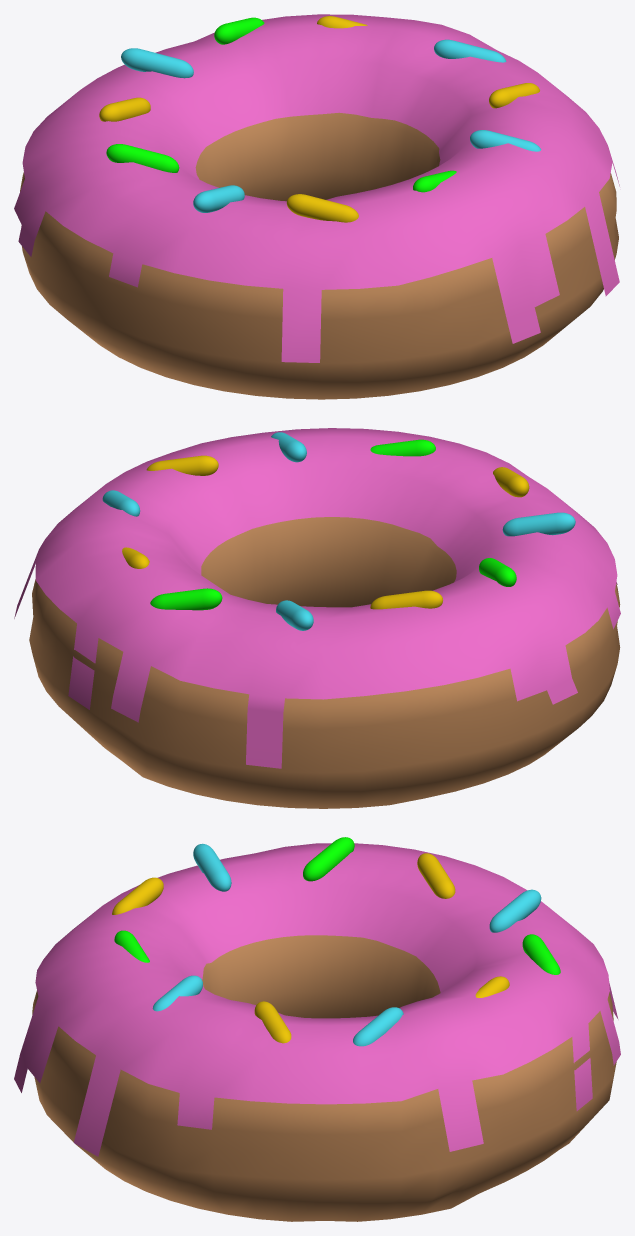
File: donutpinkJ.fbx
The picture shows the model from 3 angles, top to bottom: view 1: azimuth 30°, elevation 25°; view 2: azimuth 150°, elevation 25°; view 3: azimuth 270°, elevation 25°; orthographic projection.
Visible parts, largest first — view 1: donutcreamJ.001, donutbreadJ.001, Sphere.007, Sphere.005, Sphere.006, Sphere.010, Sphere.003, Sphere.004, Sphere.009, Sphere, Sphere.001; view 2: donutcreamJ.001, donutbreadJ.001, Sphere.003, Sphere, Sphere.004, Sphere.001, Sphere.002, Sphere.007, Sphere.005, Sphere.006, Sphere.009, Sphere.010; view 3: donutcreamJ.001, donutbreadJ.001, Sphere.006, Sphere.007, Sphere.003, Sphere.004, Sphere.005, Sphere.010, Sphere.001, Sphere, Sphere.009, Sphere.002.
Boxes of the visible parts, x1,y1,x2,y2 form: donutcreamJ.001: (14, 14, 619, 362); donutbreadJ.001: (20, 112, 618, 399); Sphere.007: (121, 48, 193, 78); Sphere.005: (286, 194, 358, 222); Sphere.006: (106, 144, 179, 172); Sphere.010: (434, 39, 506, 62); Sphere.003: (193, 185, 244, 212); Sphere.004: (99, 97, 150, 121); Sphere.009: (470, 130, 541, 151); Sphere: (214, 17, 264, 44); Sphere.001: (489, 83, 539, 108); donutcreamJ.001: (14, 428, 620, 768); donutbreadJ.001: (29, 517, 620, 808); Sphere.003: (502, 512, 575, 536); Sphere: (150, 588, 222, 610); Sphere.004: (370, 590, 442, 609); Sphere.001: (146, 455, 218, 475); Sphere.002: (370, 439, 435, 456); Sphere.007: (276, 600, 313, 630); Sphere.005: (493, 467, 529, 497); Sphere.006: (479, 558, 516, 586); Sphere.009: (271, 432, 306, 462); Sphere.010: (102, 490, 140, 516); donutcreamJ.001: (14, 843, 620, 1156); donutbreadJ.001: (32, 935, 616, 1221); Sphere.006: (303, 837, 354, 881); Sphere.007: (489, 889, 541, 932); Sphere.003: (193, 843, 231, 891); Sphere.004: (417, 853, 455, 898); Sphere.005: (112, 877, 163, 914); Sphere.010: (353, 1007, 403, 1046); Sphere.001: (254, 1001, 291, 1043); Sphere: (522, 934, 560, 974); Sphere.009: (152, 975, 202, 1011); Sphere.002: (114, 930, 149, 962).
Bounding box in the file's own units: 152 × 54.72 × 154.
